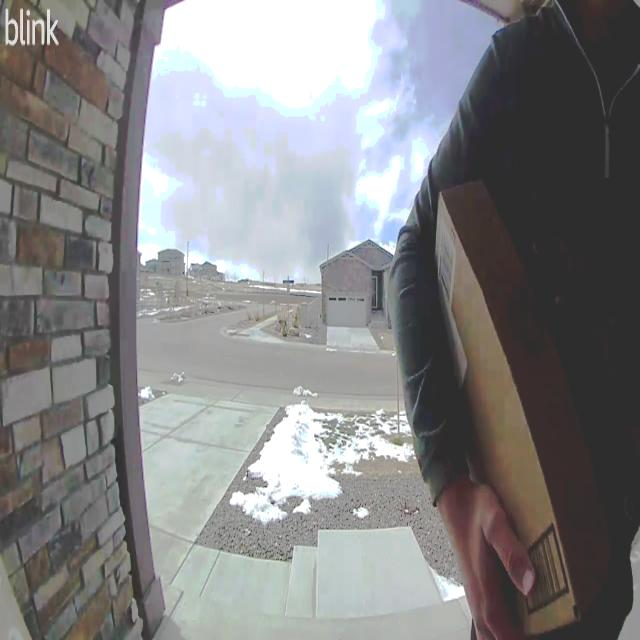Box: (435, 166, 635, 632)
